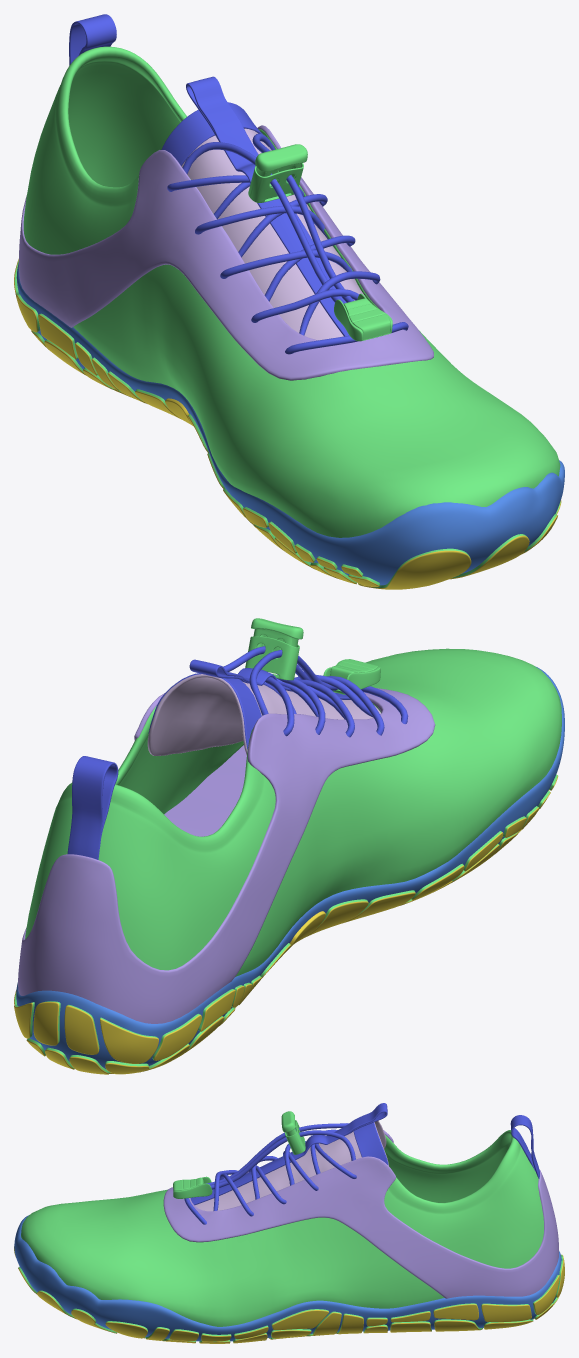
The model's file is single_shoe1.glb.
3 renders of one model, top to bottom at view 1: azimuth 30°, elevation 25°; view 2: azimuth 150°, elevation 25°; view 3: azimuth 270°, elevation 25°, orthographic. The views are drawn at different scales.
Parts seen in each view (by area): view 1: GERRIT_Material #25_0.002, GERRIT_Material #25_0.003; view 2: GERRIT_Material #25_0.002, GERRIT_Material #25_0.003; view 3: GERRIT_Material #25_0.002, GERRIT_Material #25_0.003.
Part boxes in pixels (bbox=[...]): GERRIT_Material #25_0.002: bbox=[14, 14, 560, 587]; GERRIT_Material #25_0.003: bbox=[14, 128, 564, 589]; GERRIT_Material #25_0.002: bbox=[14, 646, 561, 1073]; GERRIT_Material #25_0.003: bbox=[14, 618, 564, 1074]; GERRIT_Material #25_0.002: bbox=[18, 1103, 563, 1342]; GERRIT_Material #25_0.003: bbox=[14, 1111, 564, 1343].
Size of the model in its own units: 0.0865 by 0.1015 by 0.245.
